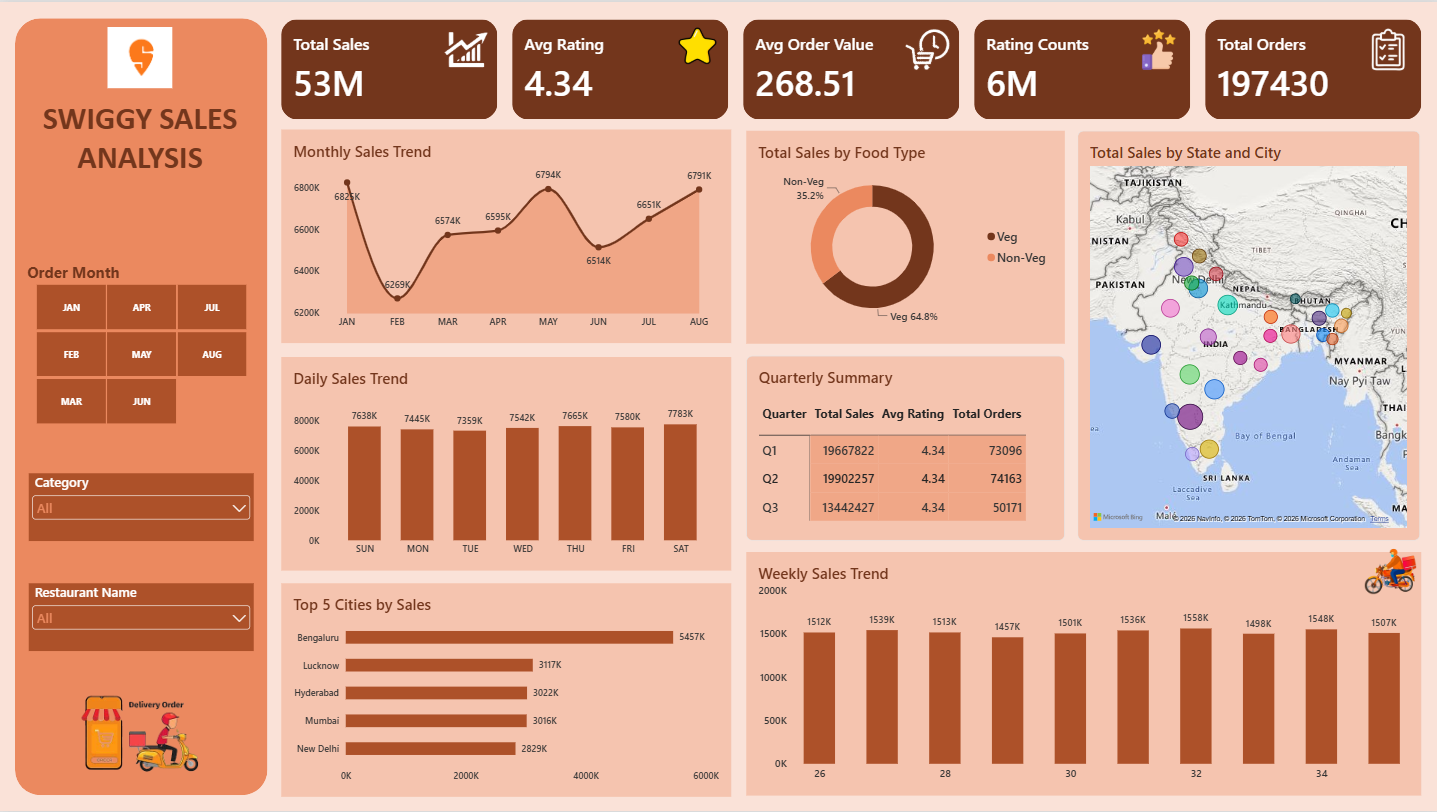

What the dashboard file says about the page in this screenshot:
{"tool":"powerbi","page":{"name":"Dashboard","canvas":[1920,1080],"ordinal":0},"visuals":[{"type":"cardVisual","fields":{"Data":["swiggy_data.Total Sales","swiggy_data.Avg Rating","swiggy_data.Avg Order Value","swiggy_data.Rating Counts","swiggy_data.Total Orders"]},"box":[375,23.3,1520,133.3],"z":0},{"type":"shape","box":[20,21.7,336.6,1036],"z":1},{"type":"image","box":[1515,33.3,60,60],"z":2},{"type":"image","box":[900,33.3,60,50],"z":3},{"type":"areaChart","title":"Monthly Sales Trend","fields":{"Category":["swiggy_data.Order Month"],"Y":["swiggy_data.Total Sales"]},"box":[374.5,170.6,600,285],"z":6},{"type":"columnChart","title":"Daily Sales Trend","fields":{"Category":["swiggy_data.Order Day"],"Y":["swiggy_data.Total Sales"]},"box":[374.5,472.5,600,285],"z":7},{"type":"barChart","title":"Top 5 Cities by Sales","fields":{"Category":["swiggy_data.City"],"Y":["swiggy_data.Total Sales"]},"box":[374.5,774.5,600,285],"z":8},{"type":"donutChart","fields":{"Category":["swiggy_data.Food Type.1"],"Y":["swiggy_data.Total Sales"]},"box":[994.6,171.4,425,283.9],"z":9},{"type":"pivotTable","title":"Quarterly Summary","fields":{"Rows":["swiggy_data.Quarter"],"Values":["swiggy_data.Total Sales","swiggy_data.Avg Rating","swiggy_data.Total Orders"]},"box":[994.6,471.4,425,246.4],"z":10},{"type":"columnChart","title":"Weekly Sales Trend","fields":{"Category":["swiggy_data.Week Number"],"Y":["swiggy_data.Total Sales"]},"box":[994.6,733.9,900,325],"z":11},{"type":"slicer","fields":{"Values":["swiggy_data.Category"]},"box":[38.3,628.3,300,90],"z":12},{"type":"slicer","fields":{"Values":["swiggy_data.Restaurant Name"]},"box":[38.3,775,300,90.7],"z":13},{"type":"slicer","fields":{"Values":["swiggy_data.Order Month"]},"box":[28.3,346.7,319.2,217.3],"z":14},{"type":"map","fields":{"Category":["swiggy_data.State"],"Series":["swiggy_data.City"],"Size":["swiggy_data.Total Sales"]},"box":[1437.5,171.4,457.1,546.4],"z":15},{"type":"image","box":[591.7,33.3,60,60],"z":17},{"type":"image","box":[1820,33.3,60,60],"z":18},{"type":"image","box":[1206.7,33.3,60,60],"z":19},{"type":"image","box":[143.3,33.3,86.7,81.7],"z":20},{"type":"textbox","box":[36.7,128.3,300,108.3],"z":21},{"type":"image","box":[1791.7,711.7,128.3,93.3],"z":22},{"type":"image","box":[0,865,375,215],"z":23}]}

Visuals, with their boxes in screenshot pixels (x1, y1, x2, y2), scaled from the page's 1920x1080 canvas onto the 1437x812 screenshot:
cardVisual - swiggy_data.Total Sales x swiggy_data.Avg Rating: BBox(281, 18, 1418, 118)
shape: BBox(15, 16, 267, 795)
image: BBox(1134, 25, 1179, 70)
image: BBox(674, 25, 718, 63)
"Monthly Sales Trend" areaChart: BBox(280, 128, 729, 343)
"Daily Sales Trend" columnChart: BBox(280, 355, 729, 570)
"Top 5 Cities by Sales" barChart: BBox(280, 582, 729, 797)
donutChart - swiggy_data.Food Type.1 x swiggy_data.Total Sales: BBox(744, 129, 1062, 342)
"Quarterly Summary" pivotTable: BBox(744, 354, 1062, 540)
"Weekly Sales Trend" columnChart: BBox(744, 552, 1418, 796)
slicer - swiggy_data.Category: BBox(29, 472, 253, 540)
slicer - swiggy_data.Restaurant Name: BBox(29, 583, 253, 651)
slicer - swiggy_data.Order Month: BBox(21, 261, 260, 424)
map - swiggy_data.State x swiggy_data.City: BBox(1076, 129, 1418, 540)
image: BBox(443, 25, 488, 70)
image: BBox(1362, 25, 1407, 70)
image: BBox(903, 25, 948, 70)
image: BBox(107, 25, 172, 86)
textbox: BBox(27, 96, 252, 178)
image: BBox(1341, 535, 1436, 605)
image: BBox(0, 650, 281, 811)
